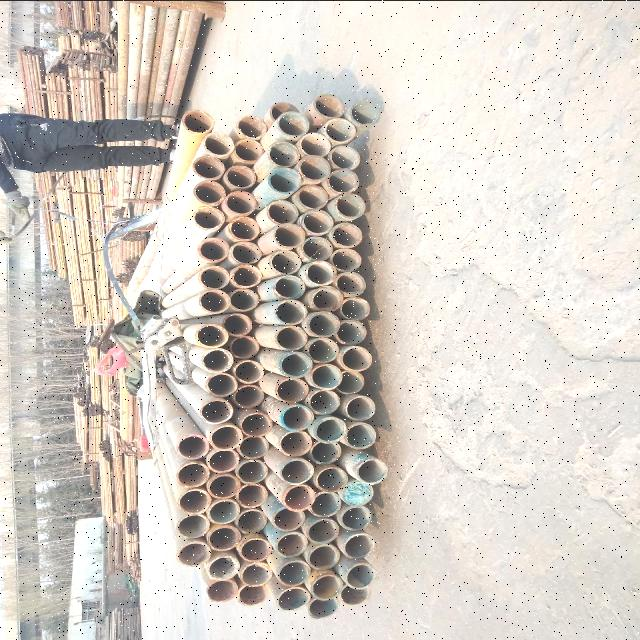pipe: (277, 430, 313, 460), (278, 404, 316, 432), (307, 438, 345, 466), (338, 532, 376, 560), (354, 456, 389, 486), (343, 421, 378, 451), (280, 484, 316, 513), (312, 571, 344, 603), (226, 214, 262, 242), (312, 416, 348, 444), (264, 200, 302, 226), (338, 506, 373, 534), (343, 395, 378, 423), (176, 539, 212, 566), (202, 372, 238, 399), (267, 167, 303, 194), (338, 479, 374, 506), (182, 108, 216, 136), (280, 456, 314, 484), (273, 298, 307, 326), (272, 222, 306, 250), (306, 518, 340, 546), (334, 192, 368, 220), (174, 514, 210, 540), (204, 526, 240, 552), (198, 399, 234, 425), (233, 508, 269, 534), (306, 492, 342, 518), (298, 236, 334, 262), (328, 221, 364, 247), (324, 168, 360, 194), (223, 163, 257, 190), (333, 369, 368, 395), (278, 351, 314, 376), (278, 558, 310, 586), (308, 390, 340, 418), (298, 154, 330, 182), (223, 189, 256, 216), (176, 434, 210, 460), (206, 499, 240, 525), (209, 423, 243, 449), (192, 206, 226, 232), (276, 585, 310, 611), (268, 249, 302, 275), (266, 141, 300, 167), (308, 544, 342, 570), (314, 466, 348, 492), (310, 362, 344, 388), (304, 336, 338, 362), (306, 310, 340, 336), (322, 116, 356, 142), (339, 294, 373, 320), (175, 488, 211, 512), (198, 348, 234, 372), (307, 286, 343, 310), (177, 461, 210, 487), (207, 554, 240, 580), (195, 322, 228, 348), (193, 178, 226, 204), (240, 412, 274, 437), (274, 325, 308, 350), (338, 346, 372, 371), (278, 110, 308, 138), (347, 102, 382, 126), (345, 560, 375, 588), (236, 582, 268, 608), (240, 562, 272, 588), (236, 482, 268, 508), (222, 311, 254, 337), (235, 114, 267, 140), (276, 532, 308, 558), (278, 377, 310, 403), (198, 266, 232, 290), (192, 155, 226, 179), (336, 271, 366, 298), (231, 384, 263, 409), (202, 132, 235, 156), (237, 434, 270, 458), (274, 506, 308, 529), (305, 261, 339, 284), (240, 536, 270, 562), (234, 138, 264, 164), (302, 208, 332, 234), (314, 92, 344, 118), (336, 319, 366, 345), (200, 288, 232, 312), (196, 237, 228, 261), (237, 459, 269, 483), (228, 335, 260, 359), (232, 262, 264, 286), (276, 274, 308, 298), (307, 597, 339, 621), (297, 183, 329, 207), (300, 132, 332, 156), (329, 144, 361, 168), (208, 474, 238, 499), (338, 584, 372, 606), (206, 580, 236, 604), (209, 448, 239, 472), (234, 358, 264, 382), (230, 287, 260, 311), (268, 100, 298, 124), (332, 248, 364, 270), (230, 241, 260, 262)
